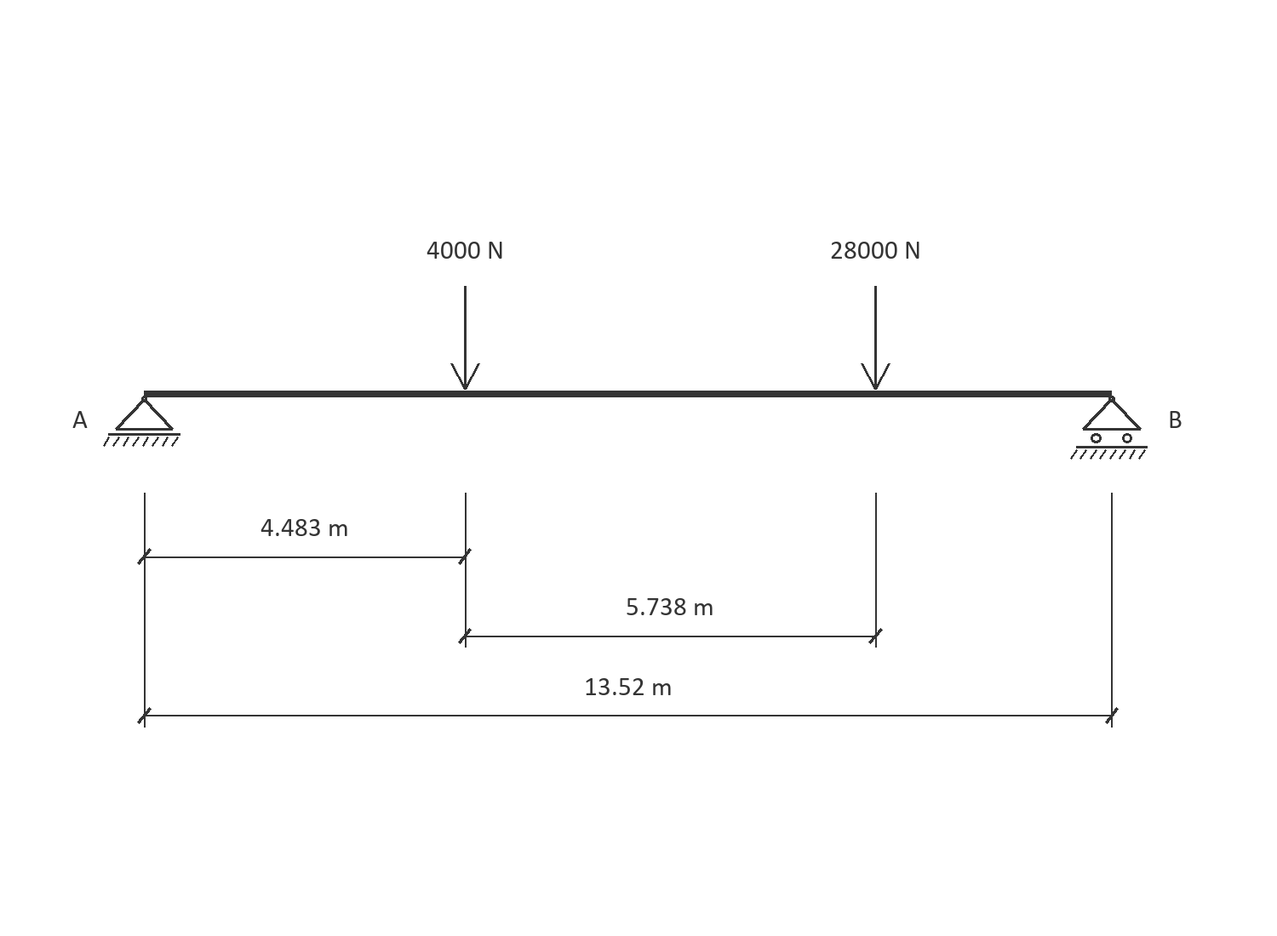pin_support: (103, 396, 180, 447)
point_load: (450, 286, 480, 390), (861, 286, 890, 390)
roller_support: (1070, 396, 1148, 459)
